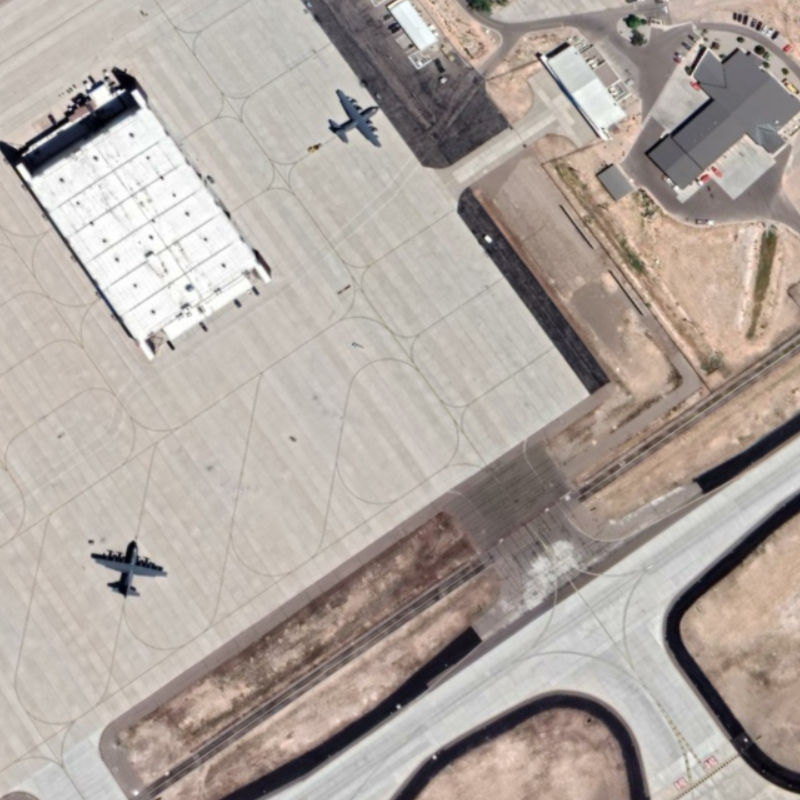A2: (86, 539, 171, 603), (325, 84, 387, 149)
